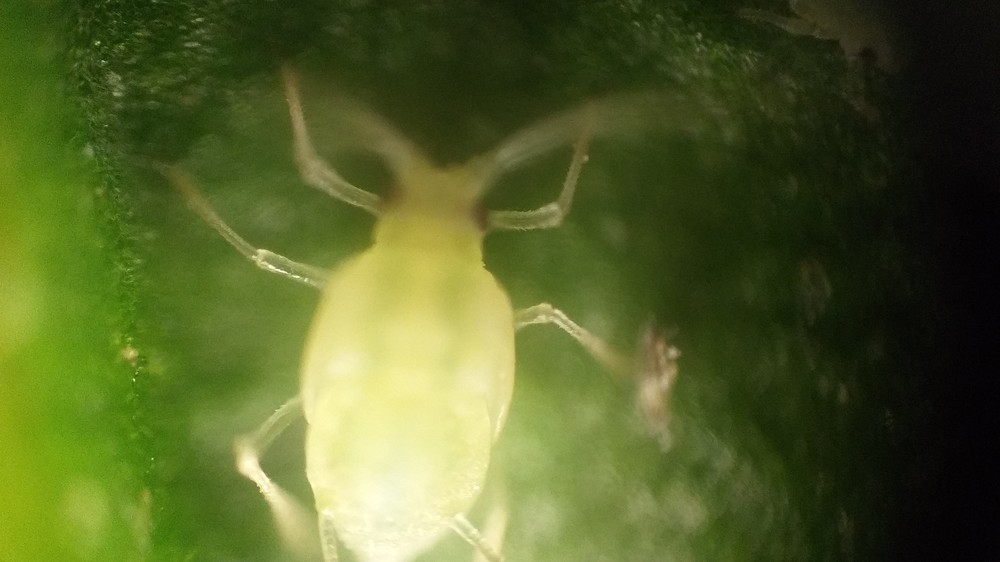Pulgon: (200, 71, 636, 562)
